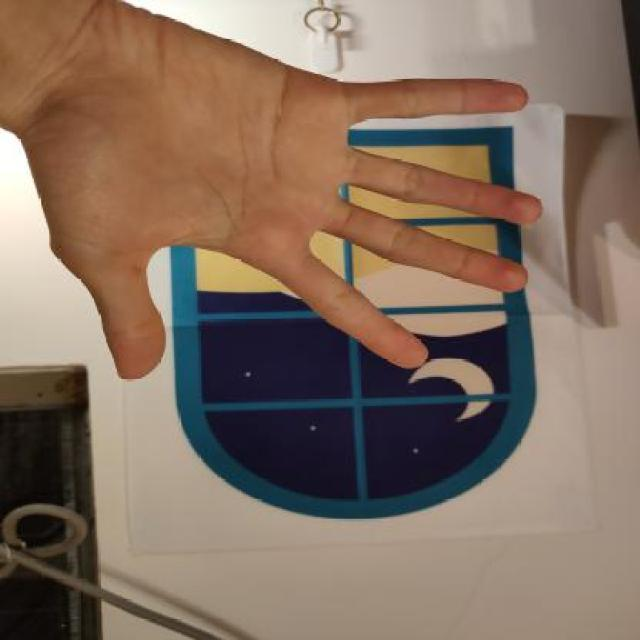bare_hand: (8, 0, 557, 397)
